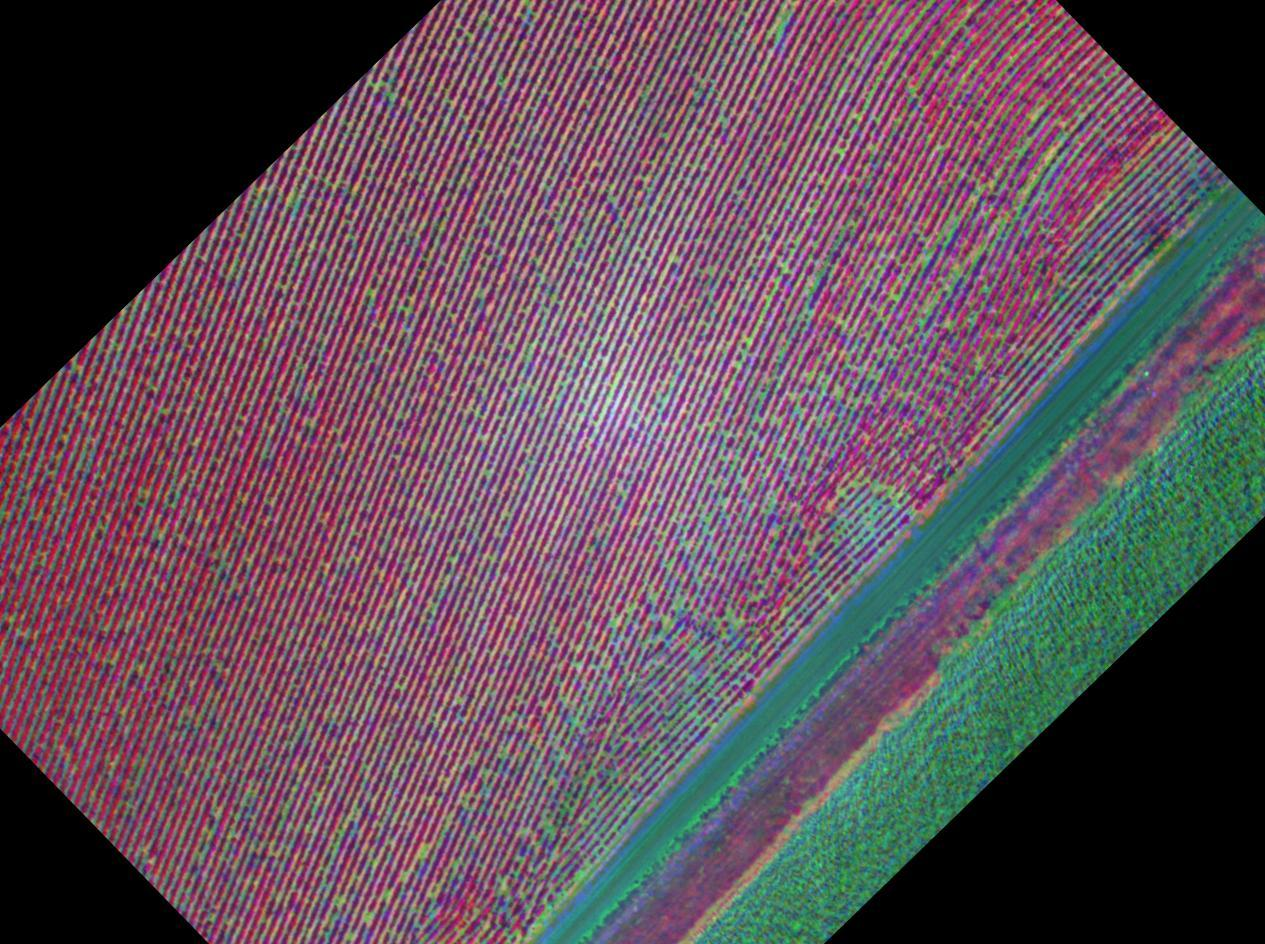dc: (501, 755, 505, 759), (304, 397, 308, 400), (508, 718, 511, 722), (459, 699, 462, 702), (245, 795, 248, 798), (584, 823, 587, 826), (578, 723, 580, 726), (545, 821, 547, 824)
